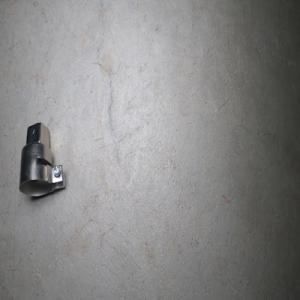MetalPart: (18, 121, 66, 197)
